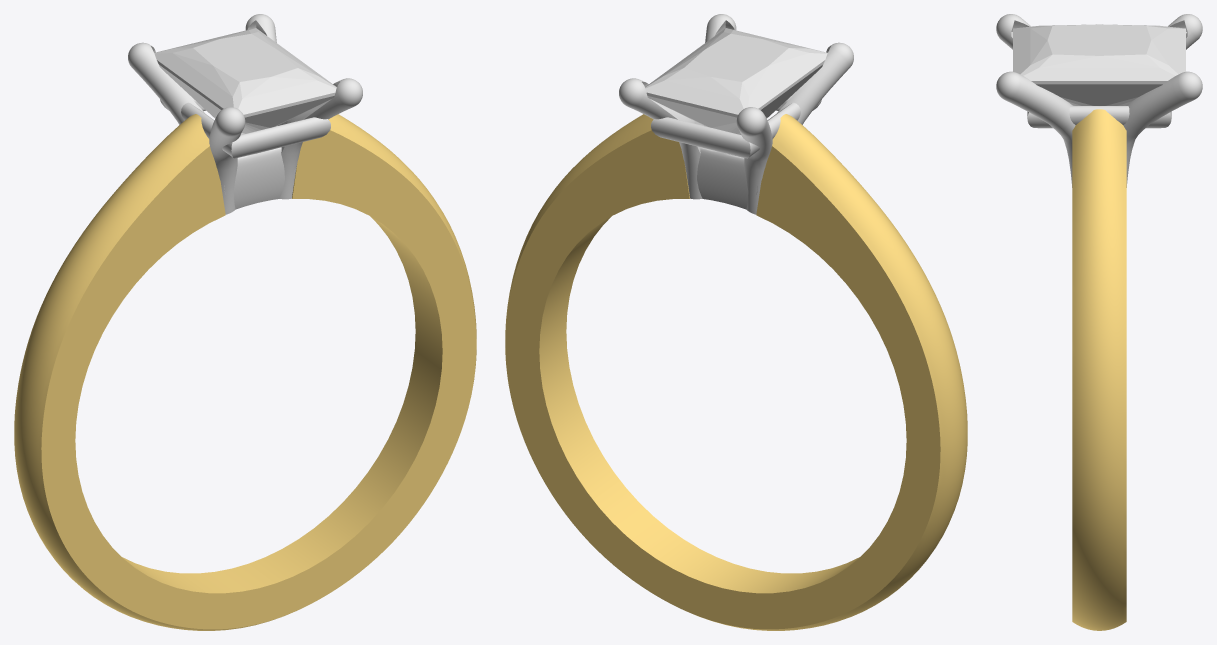
Rendered from Meredith_eng_alone_blender.glb.
3 views of the same model, side by side, from view 1: azimuth 30°, elevation 25°; view 2: azimuth 150°, elevation 25°; view 3: azimuth 270°, elevation 25° (orthographic).
Parts seen in each view (by area): view 1: eng alone YG for 3d model, eng alone PT for 3d model, eng alone dia for 3d model; view 2: eng alone YG for 3d model, eng alone PT for 3d model, eng alone dia for 3d model; view 3: eng alone YG for 3d model, eng alone dia for 3d model, eng alone PT for 3d model.
Part boxes in pixels (box(x1,y1,x2,y2)): eng alone YG for 3d model: box(14, 114, 476, 630); eng alone PT for 3d model: box(128, 14, 362, 214); eng alone dia for 3d model: box(154, 28, 336, 133); eng alone YG for 3d model: box(505, 114, 967, 630); eng alone PT for 3d model: box(619, 14, 853, 214); eng alone dia for 3d model: box(645, 28, 827, 133); eng alone YG for 3d model: box(1072, 109, 1126, 630); eng alone dia for 3d model: box(1013, 24, 1185, 105); eng alone PT for 3d model: box(996, 14, 1202, 187).
Size of the model in its own units: 19.27 by 23.04 by 7.59.
